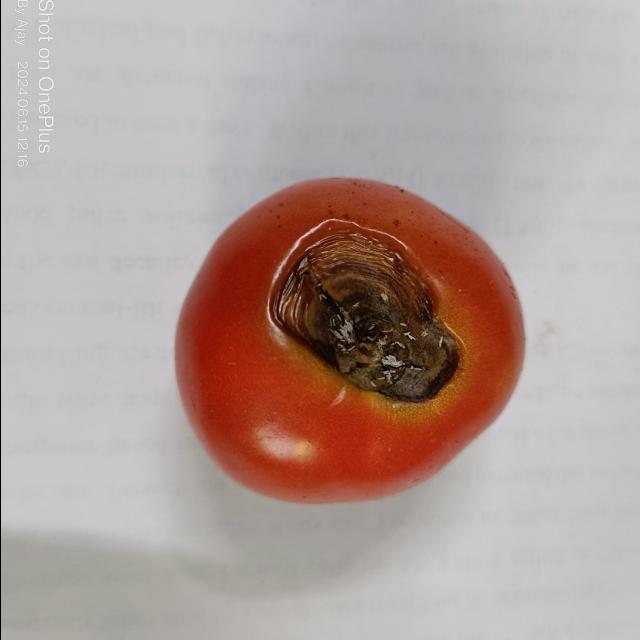Anthrocnose: (264, 213, 468, 407)
